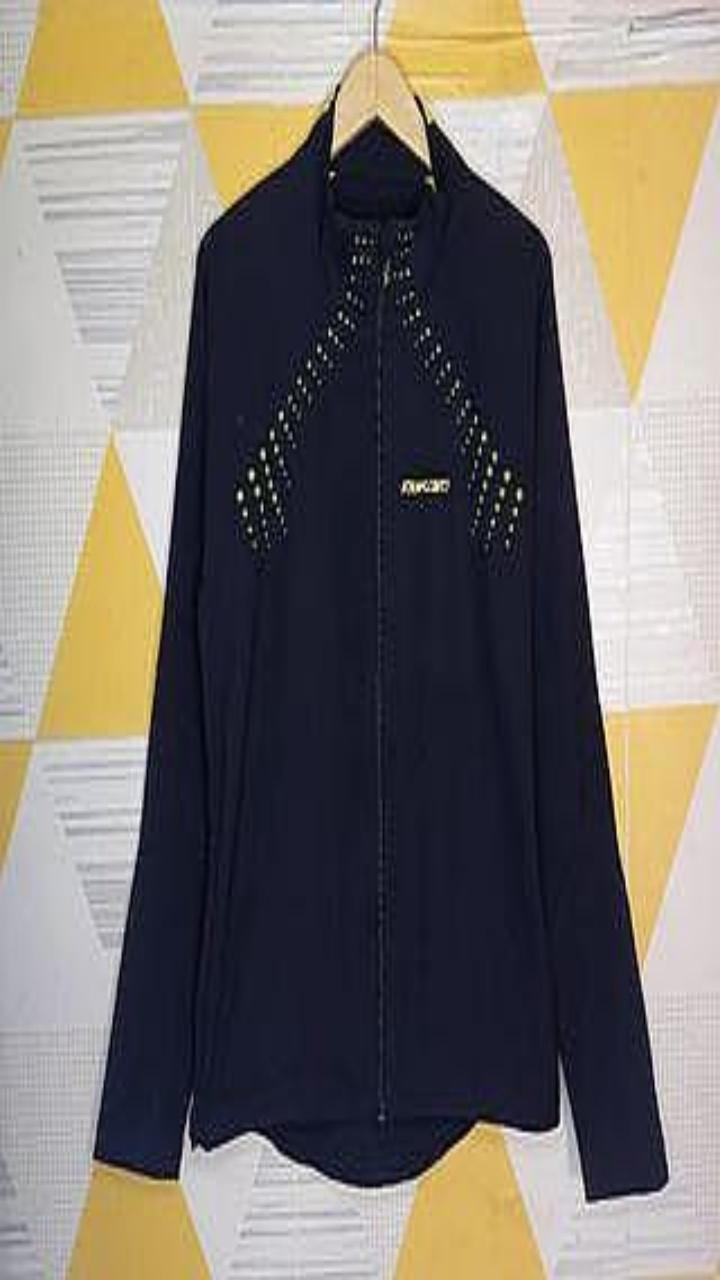Sports_Jacket: (93, 83, 667, 1199)
